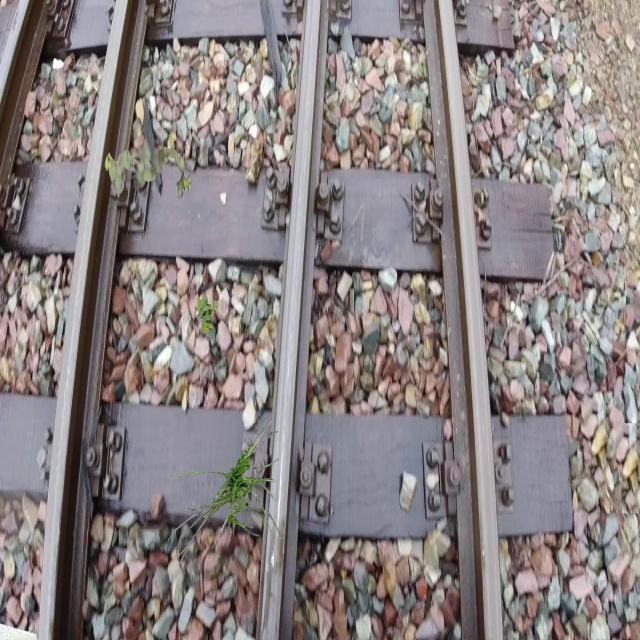Plant: (168, 408, 286, 572), (104, 131, 190, 200), (195, 294, 219, 335)
